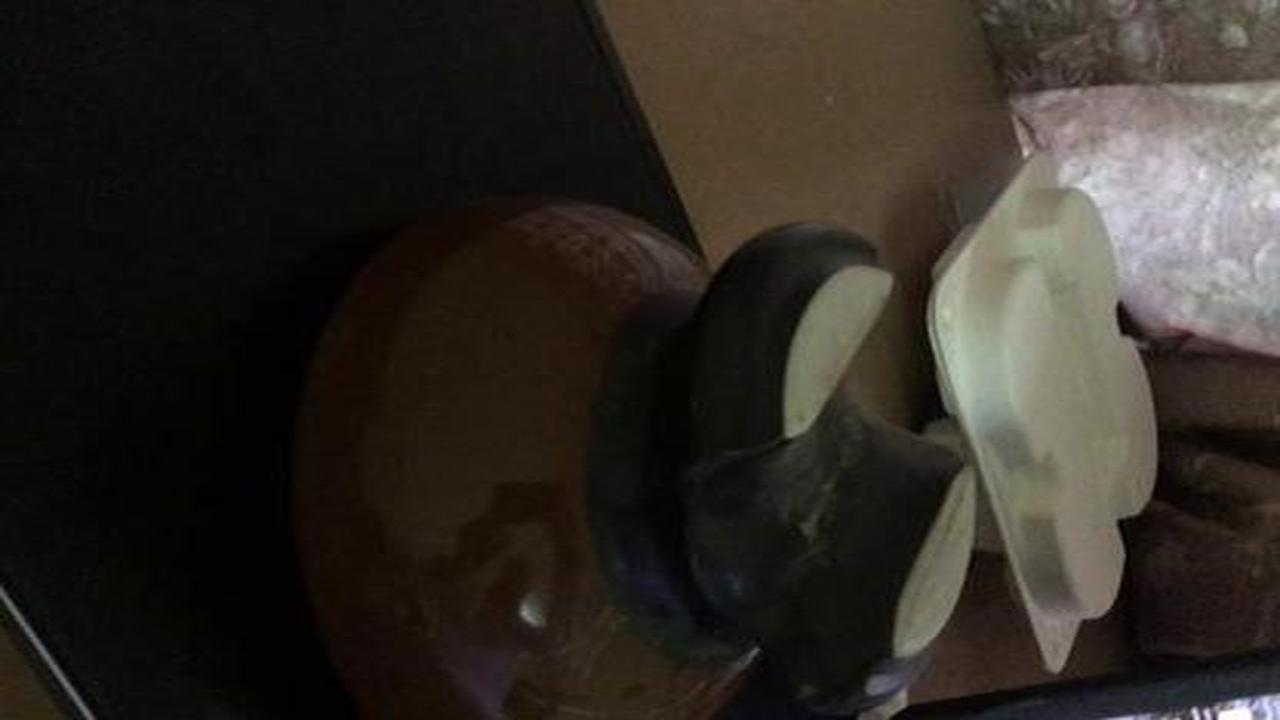insulator_pin: (256, 181, 1004, 714)
